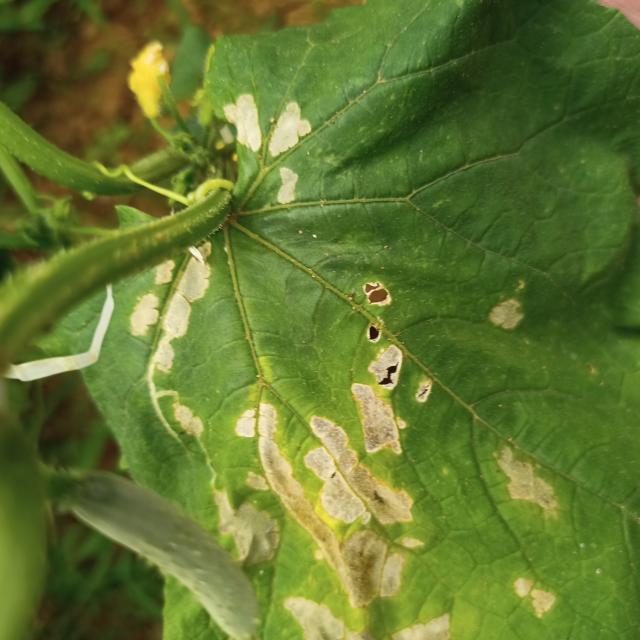disease_cucumber: (128, 242, 556, 640), (217, 88, 314, 216)
